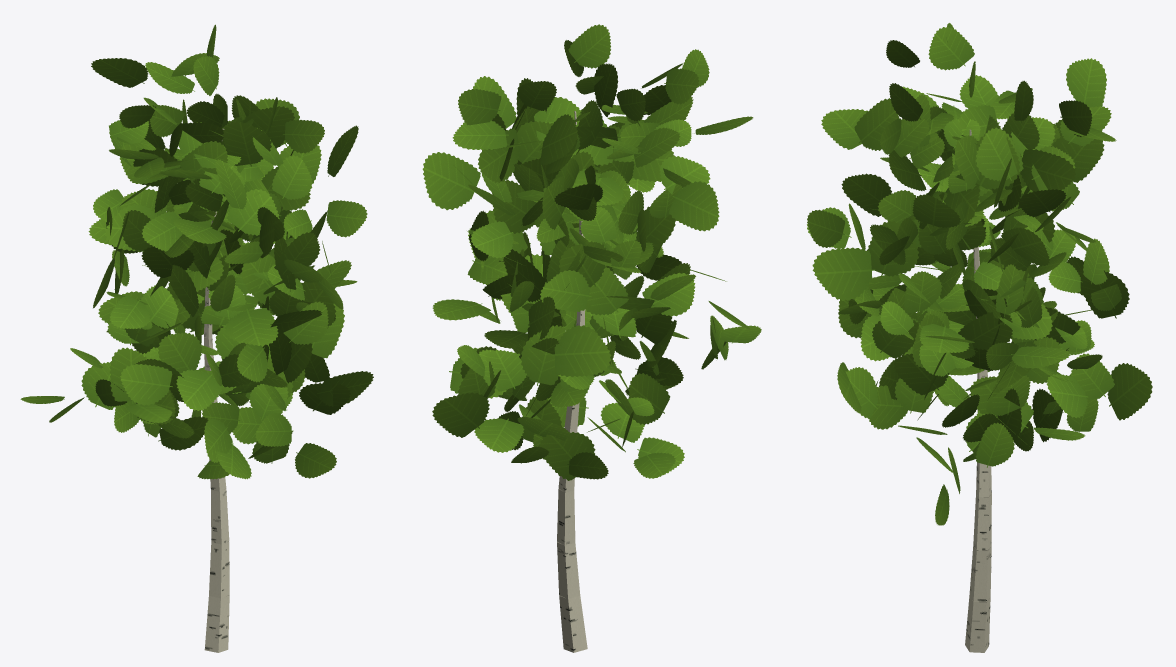
The model's file is Aspen_LOD2.fbx.
3 views of the same model, side by side, from view 1: azimuth 30°, elevation 25°; view 2: azimuth 150°, elevation 25°; view 3: azimuth 270°, elevation 25° (orthographic). The views are drawn at different scales.
Parts seen in each view (by area): view 1: Aspen_LOD2; view 2: Aspen_LOD2; view 3: Aspen_LOD2.
Part boxes in pixels (x1,y1,x2,y2): Aspen_LOD2: [20, 24, 373, 652]; Aspen_LOD2: [422, 24, 761, 652]; Aspen_LOD2: [807, 23, 1152, 652].
Size of the model in its own units: 451 by 903 by 505.
Materials: 2 (2 with a texture image).
